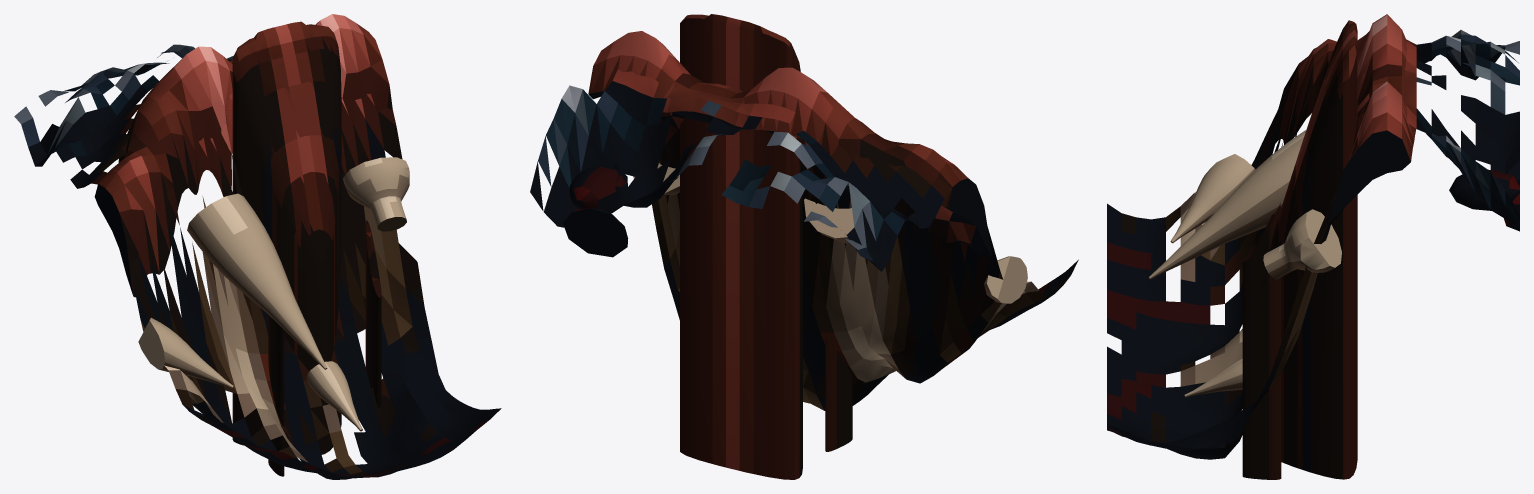
Rendered from gyges_maw_129.glb.
3 views of the same model, side by side, from view 1: azimuth 30°, elevation 25°; view 2: azimuth 150°, elevation 25°; view 3: azimuth 270°, elevation 25° (orthographic). The views are drawn at different scales.
Parts seen in each view (by area): view 1: gyges_maw_129_body, gyges_maw_129_lips_uvula, gyges_maw_129_lips, gyges_maw_129_tooth0, gyges_maw_129_tooth0_m, gyges_maw_129_tooth1, gyges_maw_129_tooth_axis; view 2: gyges_maw_129_body, gyges_maw_129_lips_uvula, gyges_maw_129_lips, gyges_maw_129_gore55, gyges_maw_129_gore58, gyges_maw_129_tooth1, gyges_maw_129_tooth0; view 3: gyges_maw_129_body, gyges_maw_129_lips_uvula, gyges_maw_129_lips, gyges_maw_129_tooth0, gyges_maw_129_tooth0_m, gyges_maw_129_tooth1, gyges_maw_129_gore58, gyges_maw_129_tooth_axis.
Boxes of the visible parts, x1,y1,x2,y2 form: gyges_maw_129_body: (14, 44, 501, 479); gyges_maw_129_lips_uvula: (232, 21, 381, 476); gyges_maw_129_lips: (94, 14, 392, 297); gyges_maw_129_tooth0: (187, 193, 327, 369); gyges_maw_129_tooth0_m: (343, 157, 409, 231); gyges_maw_129_tooth1: (138, 317, 233, 388); gyges_maw_129_tooth_axis: (306, 361, 362, 431); gyges_maw_129_body: (530, 69, 1078, 410); gyges_maw_129_lips_uvula: (680, 14, 852, 479); gyges_maw_129_lips: (588, 31, 991, 257); gyges_maw_129_gore55: (563, 208, 628, 257); gyges_maw_129_gore58: (569, 166, 627, 209); gyges_maw_129_tooth1: (984, 256, 1027, 303); gyges_maw_129_tooth0: (804, 198, 854, 243); gyges_maw_129_body: (1107, 30, 1519, 459); gyges_maw_129_lips_uvula: (1242, 20, 1357, 479); gyges_maw_129_lips: (1275, 14, 1416, 228); gyges_maw_129_tooth0: (1149, 130, 1305, 279); gyges_maw_129_tooth0_m: (1263, 209, 1341, 279); gyges_maw_129_tooth1: (1170, 154, 1255, 243); gyges_maw_129_gore58: (1449, 169, 1519, 210); gyges_maw_129_tooth_axis: (1184, 358, 1242, 397).
Bounding box in the file's own units: 23.98 × 31.41 × 27.98.
